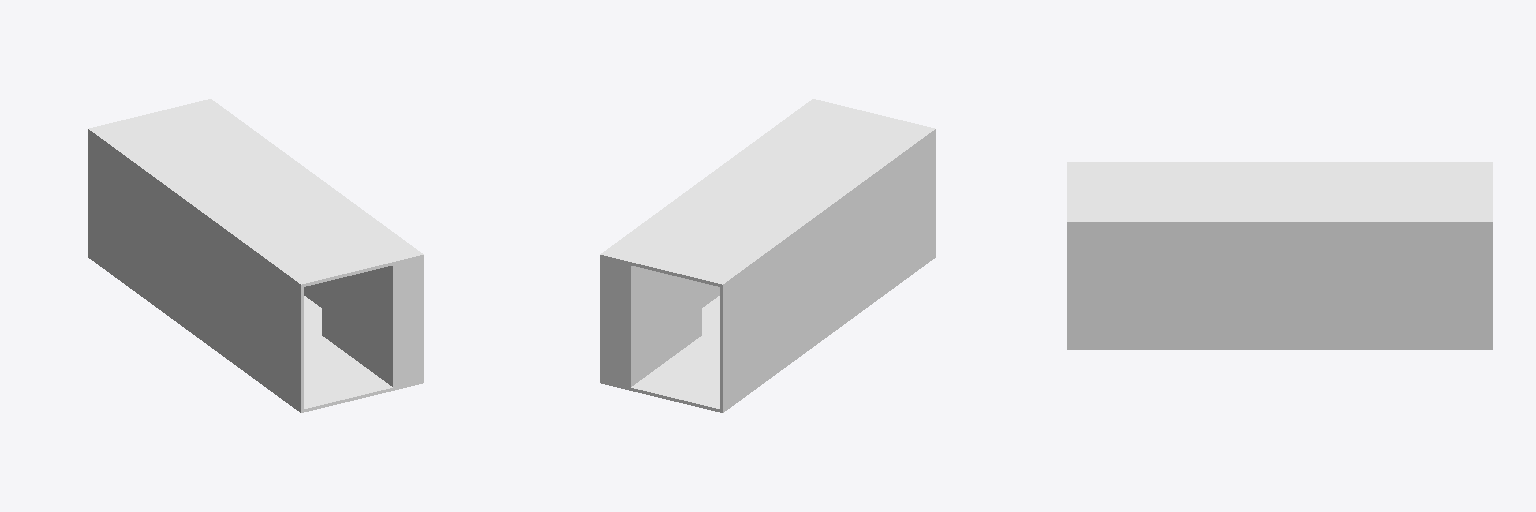
File: hallway_juts.obj
The picture shows the model from 3 angles: view 1: azimuth 30°, elevation 25°; view 2: azimuth 150°, elevation 25°; view 3: azimuth 270°, elevation 25°; orthographic projection.
Size of the model in its own units: 40 by 40 by 120.